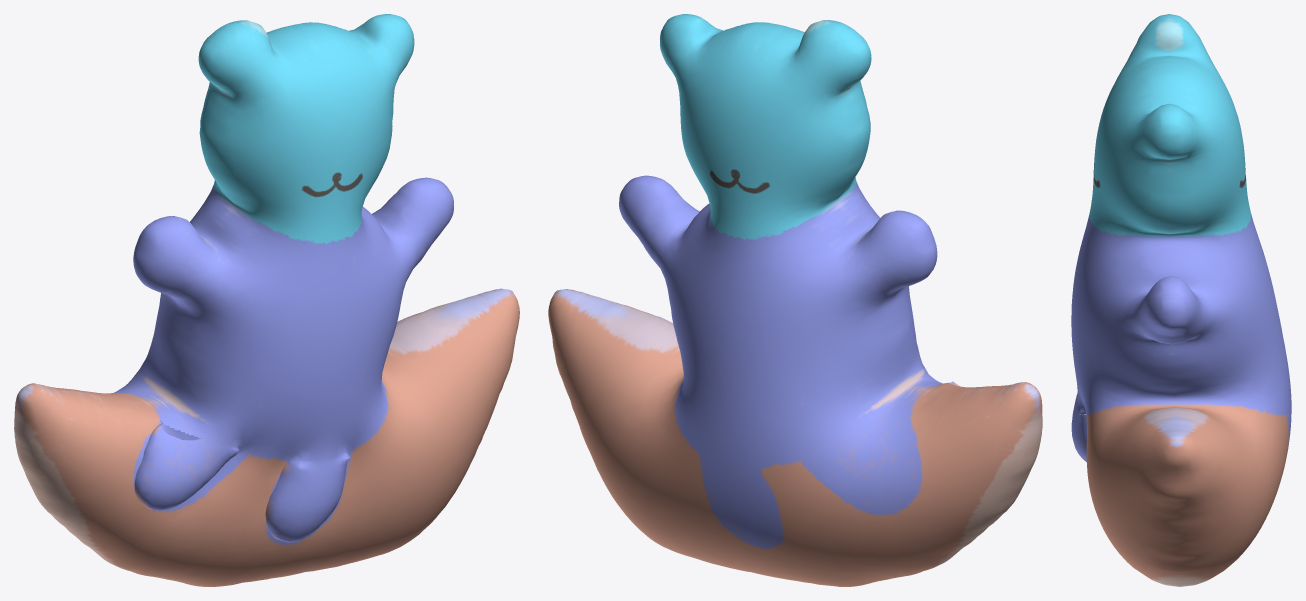
Rendered from bear.glb.
The picture shows the model from 3 angles, left to right: view 1: azimuth 30°, elevation 25°; view 2: azimuth 150°, elevation 25°; view 3: azimuth 270°, elevation 25°; orthographic projection. The views are drawn at different scales.
Size of the model in its own units: 6.81 by 7.35 by 2.91.
Materials: 1 (1 with a texture image).
